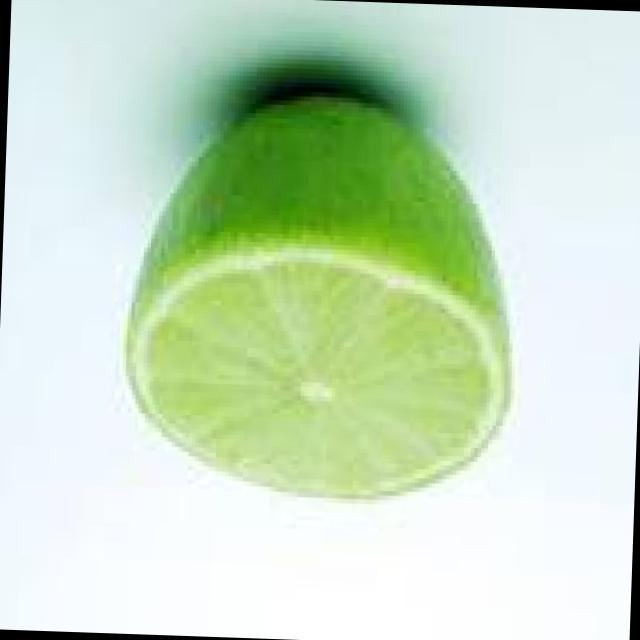Lemon: (114, 67, 556, 542)
